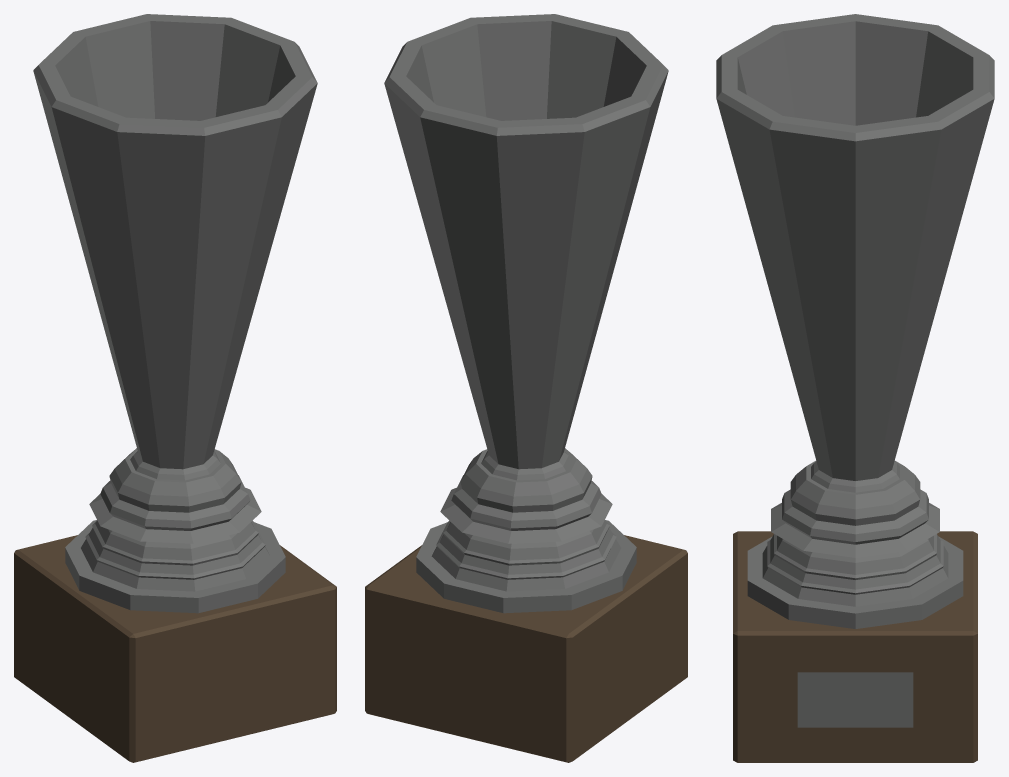
The model's file is SM_Cup_03.glb.
The picture shows the model from 3 angles, left to right: view 1: azimuth 30°, elevation 25°; view 2: azimuth 150°, elevation 25°; view 3: azimuth 270°, elevation 25°; orthographic projection. The views are drawn at different scales.
Visible parts, largest first — view 1: SM_Cup_03; view 2: SM_Cup_03; view 3: SM_Cup_03.
Part boxes in pixels (x1,y1,x2,y2): SM_Cup_03: (14,14,336,762); SM_Cup_03: (365,14,687,762); SM_Cup_03: (716,14,994,762).
Bounding box in the file's own units: 0.2324 × 0.5606 × 0.2211.
Materials: 1 (1 with a texture image).
